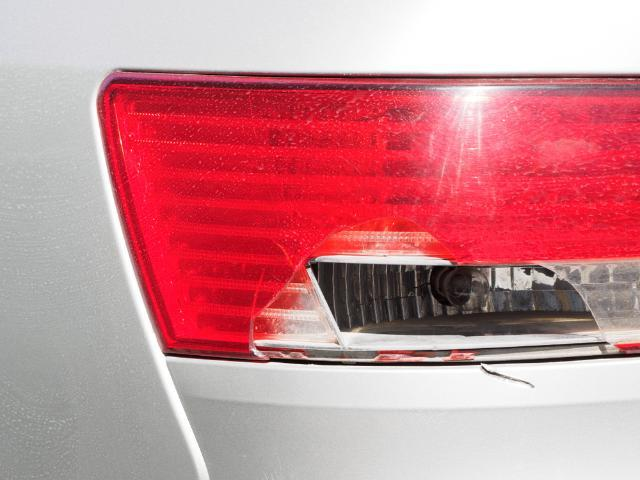crack: (480, 365, 536, 389)
lamp broken: (97, 70, 640, 365)
